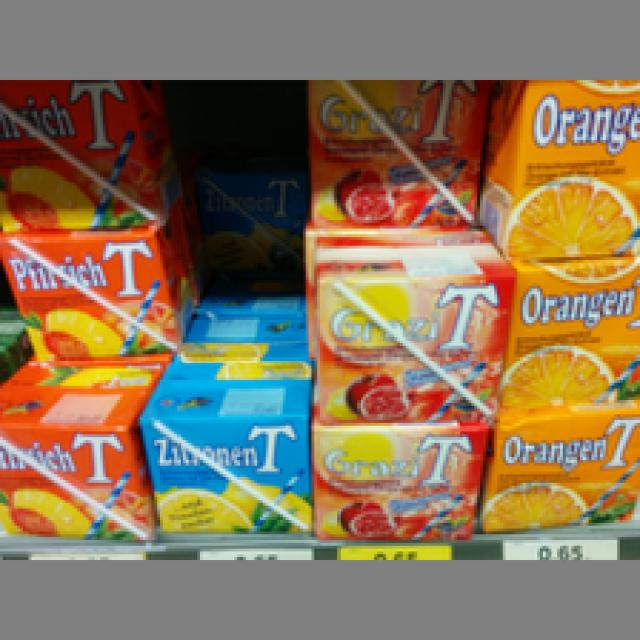groceries: (306, 231, 514, 420), (466, 77, 637, 249), (146, 357, 306, 534), (303, 77, 488, 226), (0, 77, 180, 229), (0, 228, 197, 363), (0, 360, 146, 534), (492, 254, 637, 423)
